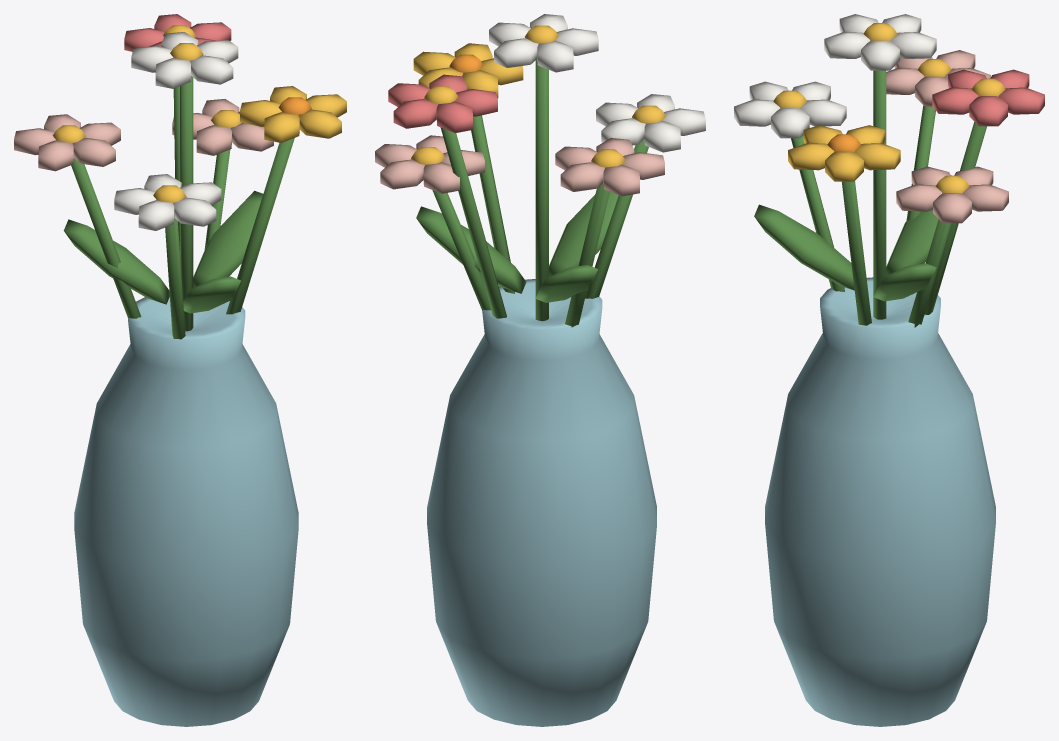
File: vaseFlowers.glb
3 views of the same model, side by side, from view 1: azimuth 30°, elevation 25°; view 2: azimuth 150°, elevation 25°; view 3: azimuth 270°, elevation 25° (orthographic). The views are drawn at different scales.
Visible parts, largest first — view 1: vaseFlowers; view 2: vaseFlowers; view 3: vaseFlowers.
Boxes of the visible parts, <box> form: vaseFlowers: <box>14,14,346,726</box>; vaseFlowers: <box>375,14,705,726</box>; vaseFlowers: <box>734,14,1044,726</box>.
Size of the model in its own units: 0.1794 by 0.4103 by 0.1724.
